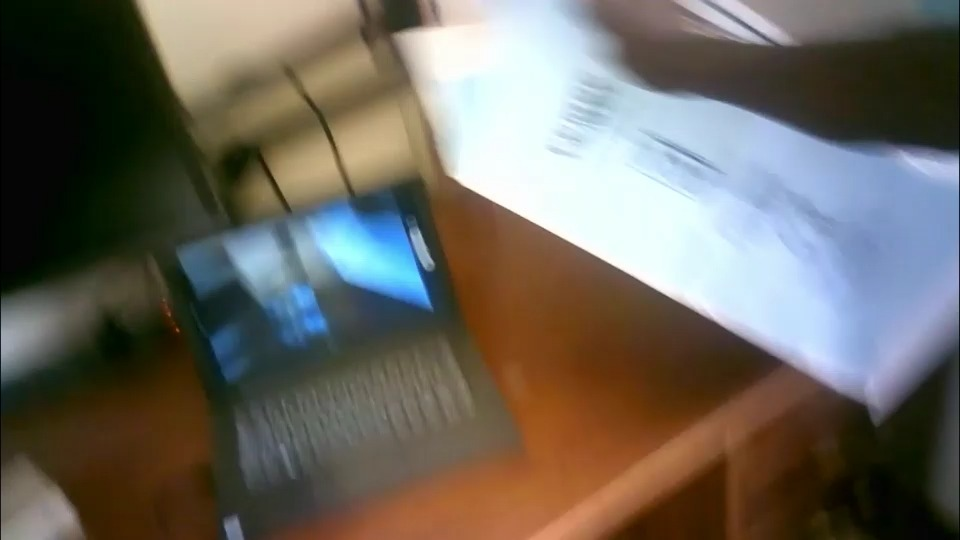wheat_flour_blue_label: (461, 16, 948, 409)
